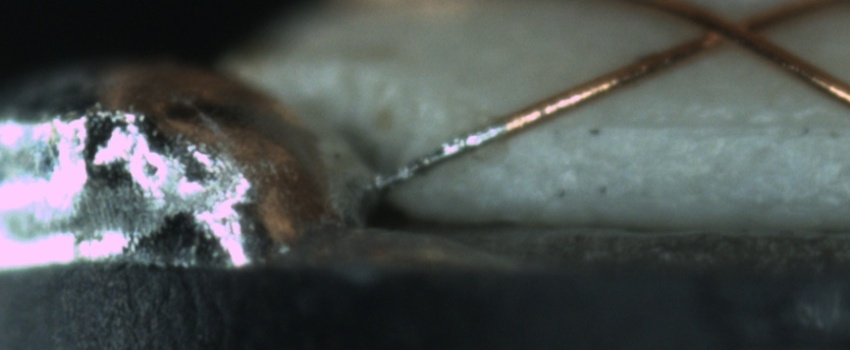CL: (684, 2, 774, 57)
DL: (546, 96, 850, 160)
TS: (365, 116, 507, 195)
